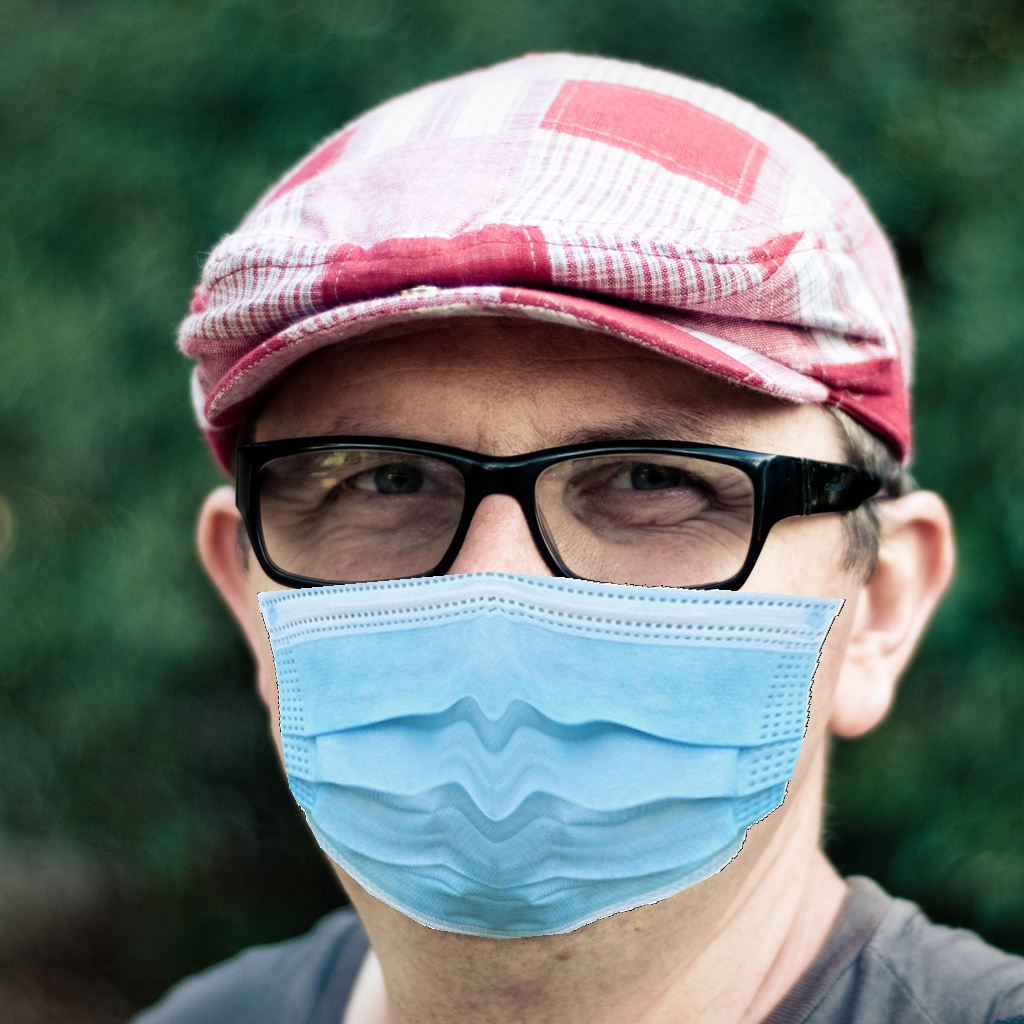Mask: (258, 411, 826, 944)
